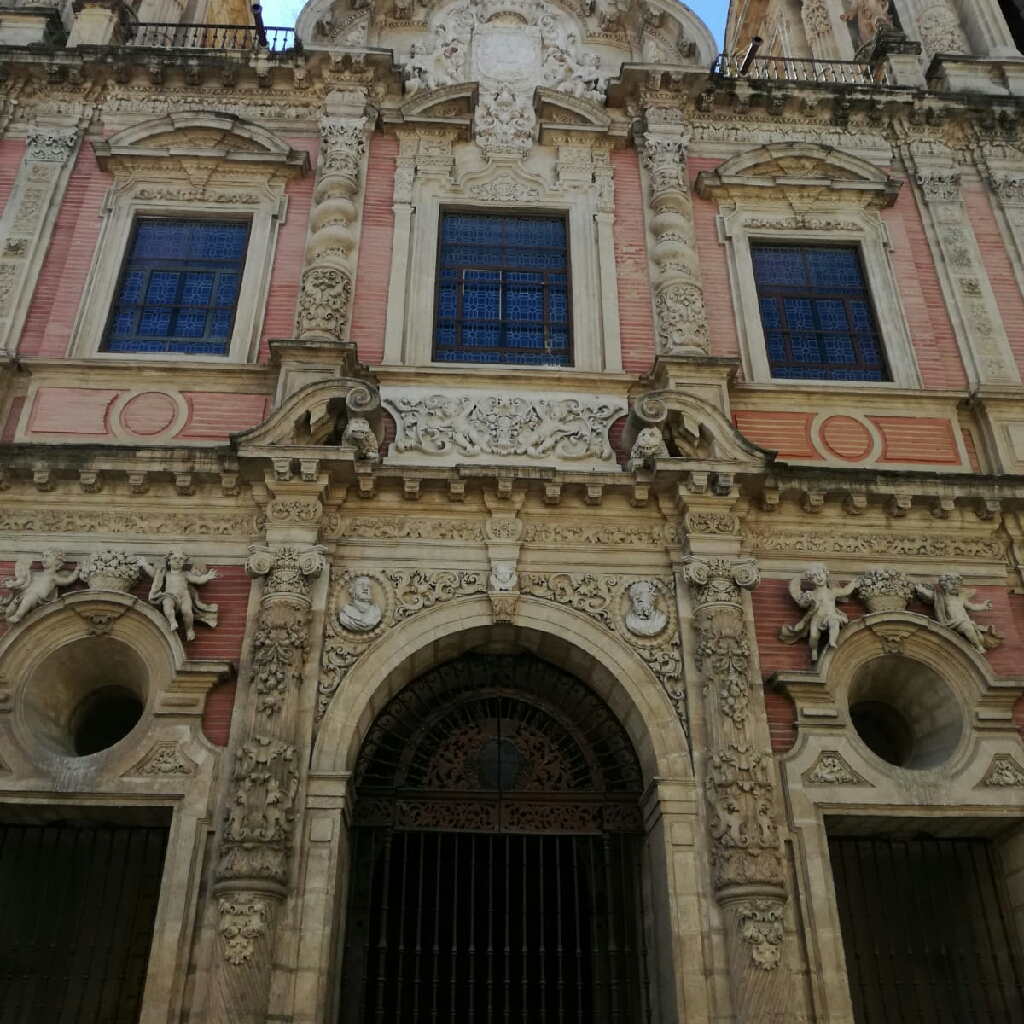arco-medio-punto: (319, 605, 681, 833)
fronton-curvo: (705, 136, 901, 199), (109, 105, 298, 170)
fronton-partido: (242, 371, 793, 498), (389, 80, 624, 136)
ojo-de-buey: (1, 583, 183, 773), (811, 611, 1000, 789)
vano-adintelado: (406, 164, 601, 375), (722, 205, 915, 387), (81, 187, 276, 361)
